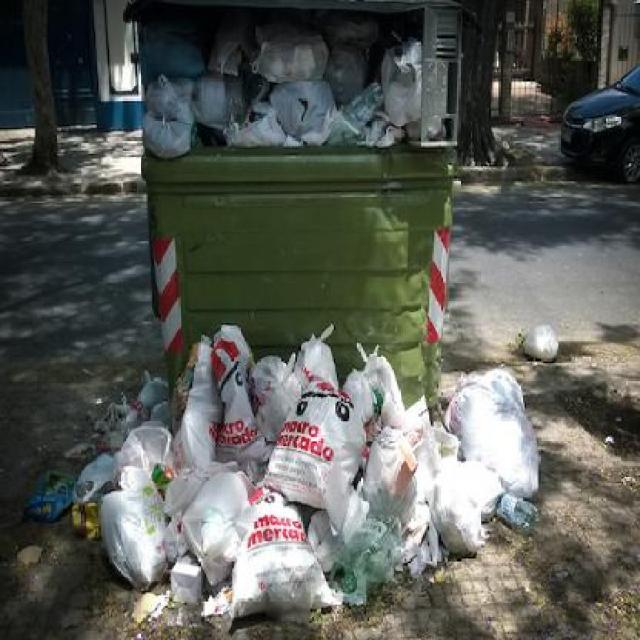garbage: (100, 329, 536, 624), (136, 14, 426, 155)
